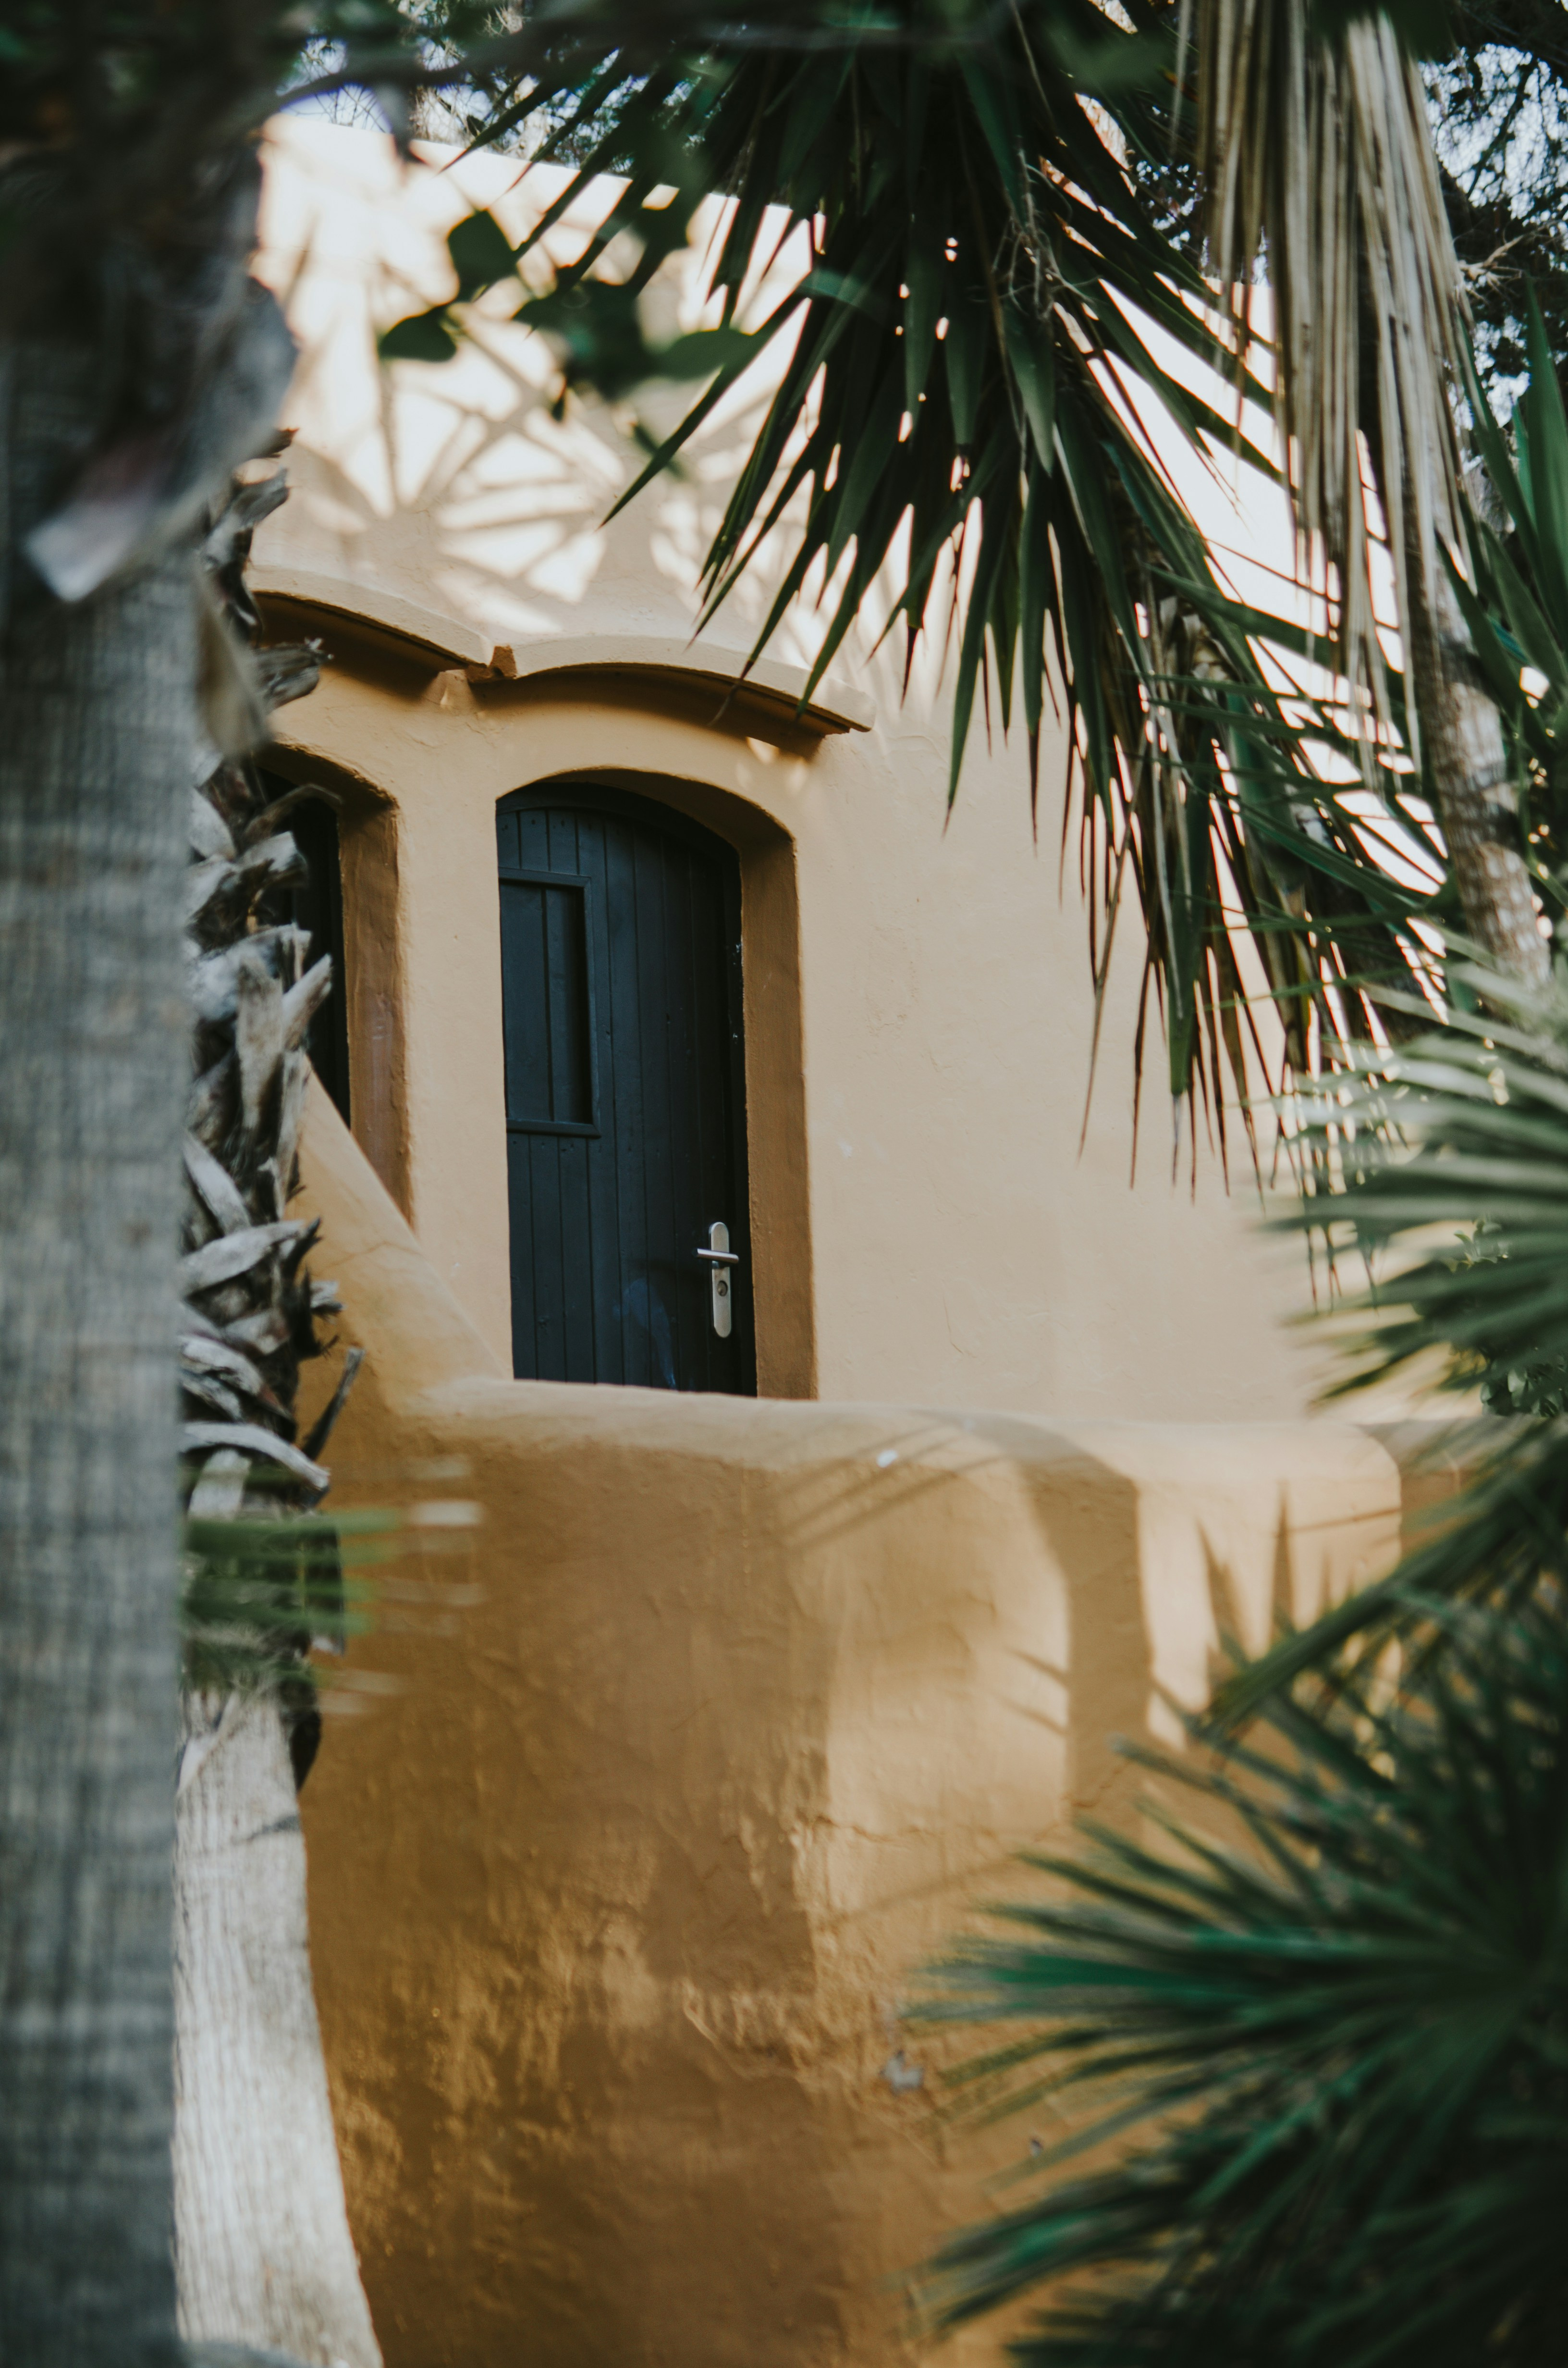door: (491, 777, 818, 1414)
